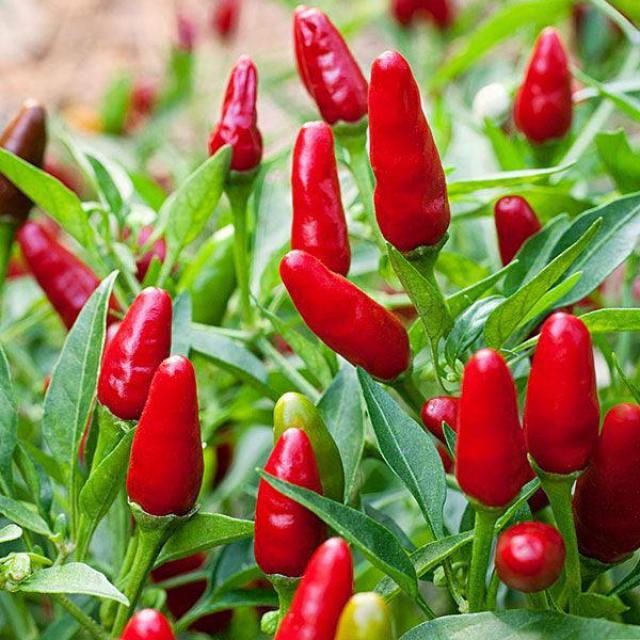other: (50, 17, 618, 611)
